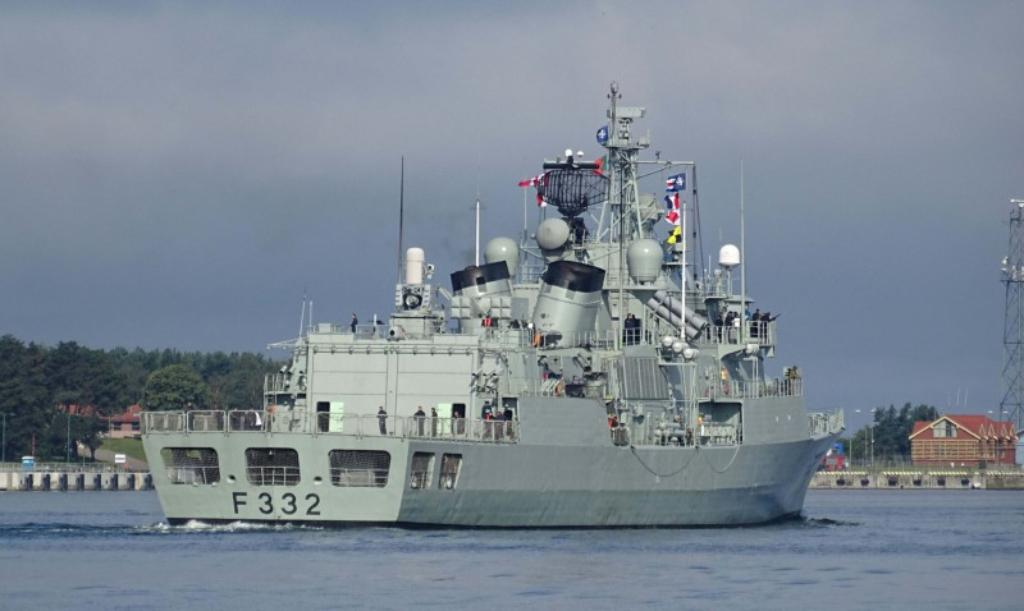Warship: (136, 76, 854, 530)
